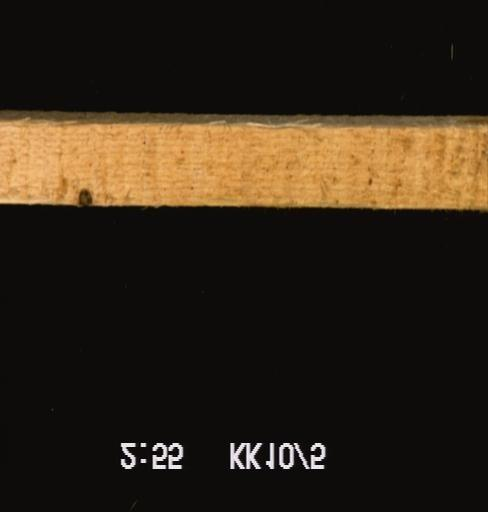edge_knot: (76, 187, 92, 205)
